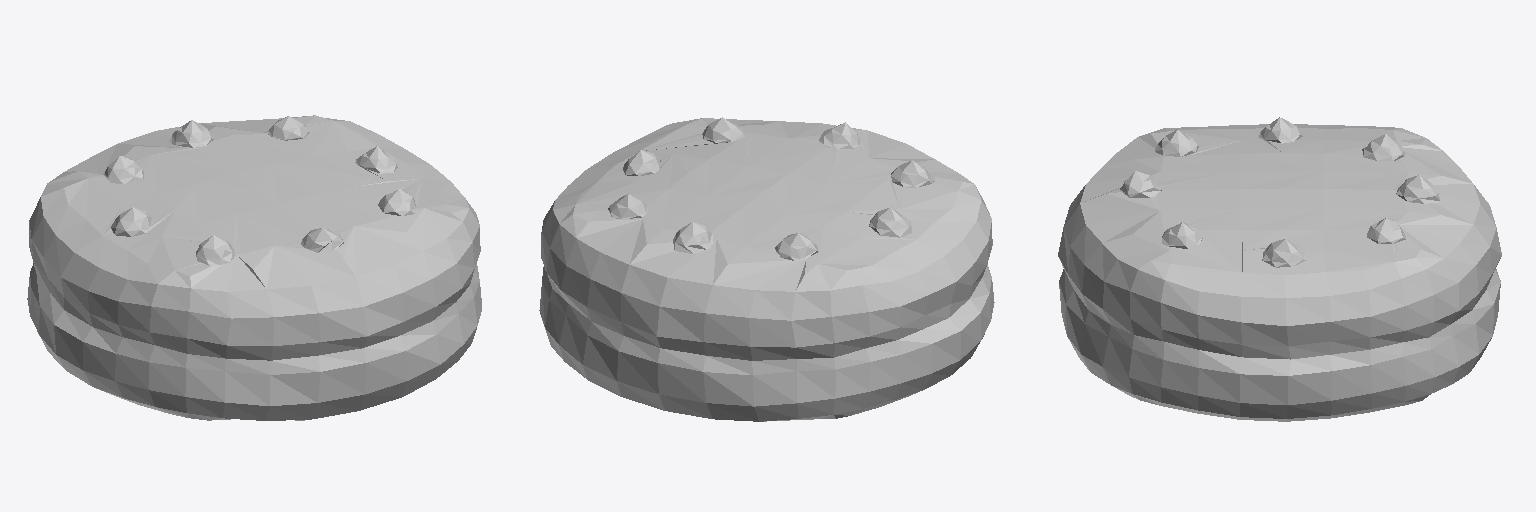
The model's file is cake.obj.
3 renders of one model, left to right at view 1: azimuth 30°, elevation 25°; view 2: azimuth 150°, elevation 25°; view 3: azimuth 270°, elevation 25°, orthographic.
Visible parts, largest first — view 1: Cube.005; view 2: Cube.005; view 3: Cube.005.
Part boxes in pixels (x1,y1,x2,y2): Cube.005: (27,115,481,420); Cube.005: (539,117,994,421); Cube.005: (1058,117,1501,421).
Size of the model in its own units: 1.33 by 0.5375 by 1.29.